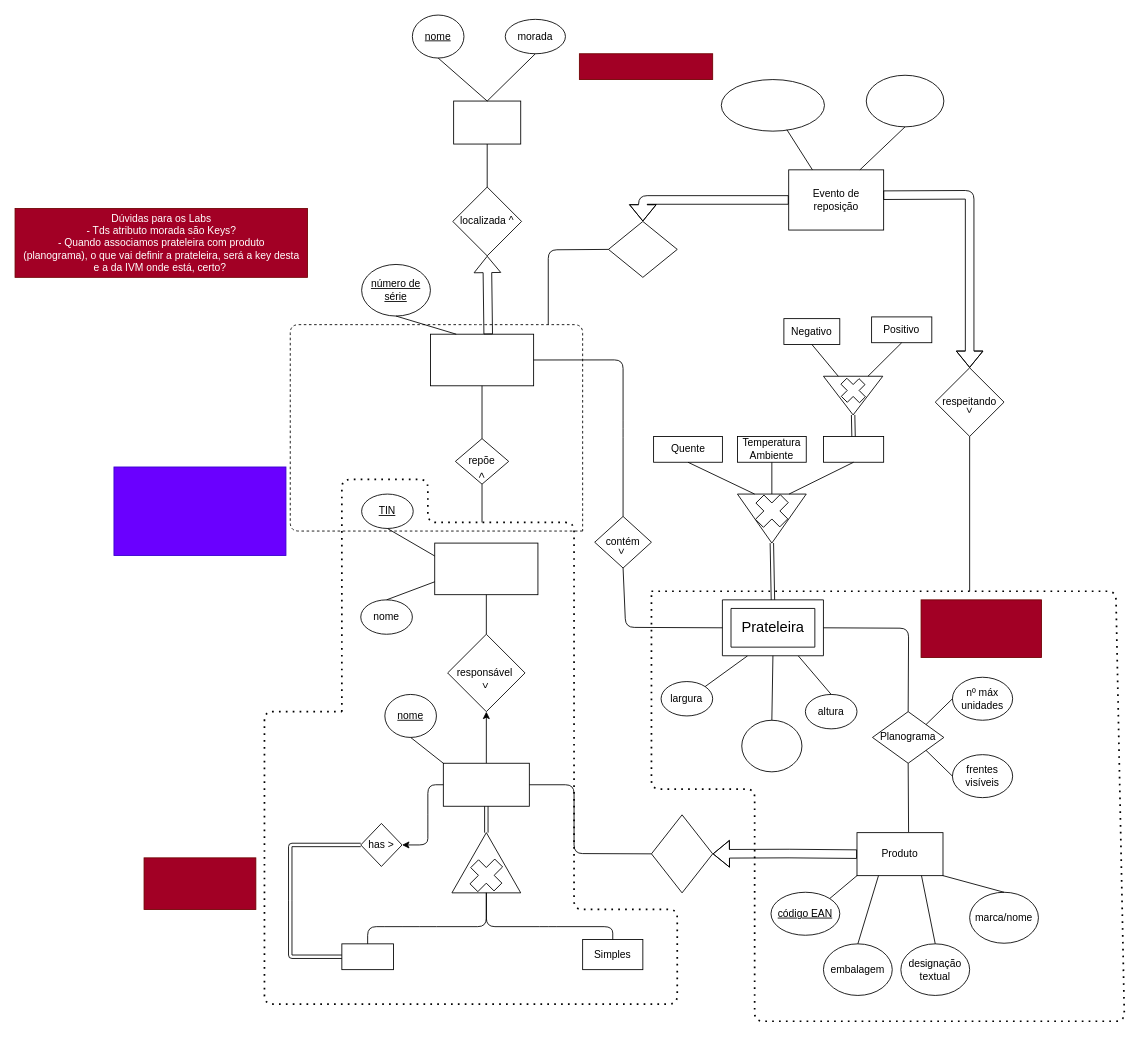
The diagram is 1141 pixels wide and 1038 high, and some of its shapes have lost their labels. The shapes that lost their labels are listed below. From the top down, each one's centre as x and y in pixels, then its label:
At [646,66]: "O ponto de retalho é uma entidade?".
At [772,105]: "nº unidades substituidas".
At [904,100]: "data".
At [487,122]: "Ponto de Retalho".
At [642,249]: "de acordo com <".
At [482,359]: "IVM".
At [853,449]: "Fria".
At [199,511]: "Perguntar sobre as agregações?".
At [486,568]: "Retalhista".
At [980,628]: "Planograma ou usar verbo conter?".
At [771,745]: "número".
At [485,784]: "Categoria".
At [682,853]: "pertence <".
At [199,883]: "Uma super categoria pode conter uma super categoria?".
At [367,956]: "Super".
